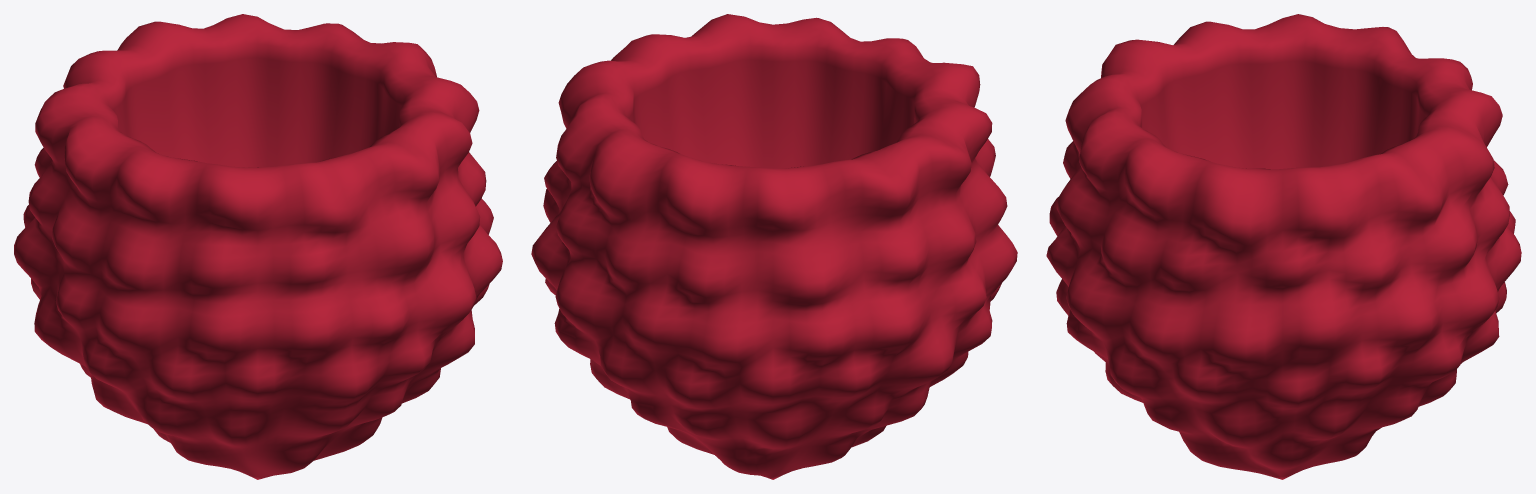
The picture shows the model from 3 angles, left to right: view 1: azimuth 30°, elevation 25°; view 2: azimuth 150°, elevation 25°; view 3: azimuth 270°, elevation 25°; orthographic projection.
Parts seen in each view (by area): view 1: NEW302_Raspberry_LOD1; view 2: NEW302_Raspberry_LOD1; view 3: NEW302_Raspberry_LOD1.
Boxes of the visible parts, <box> form: NEW302_Raspberry_LOD1: <box>14,14,502,479</box>; NEW302_Raspberry_LOD1: <box>531,14,1017,479</box>; NEW302_Raspberry_LOD1: <box>1046,14,1521,479</box>.
Bounding box in the file's own units: 0.0257 × 0.0229 × 0.0256.
